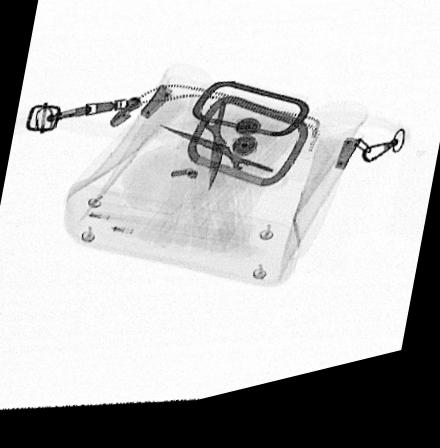Scissors: (156, 93, 288, 206)
